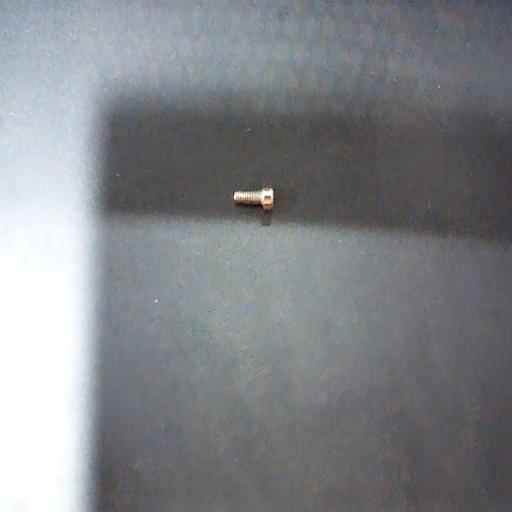screw: (234, 186, 274, 209)
